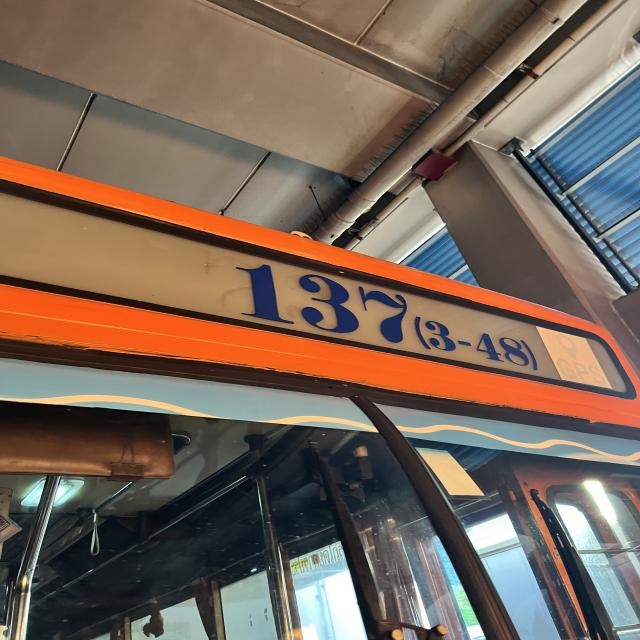BMTA-bus: (0, 153, 640, 640)
Bus-Line-Number: (216, 245, 553, 376)
